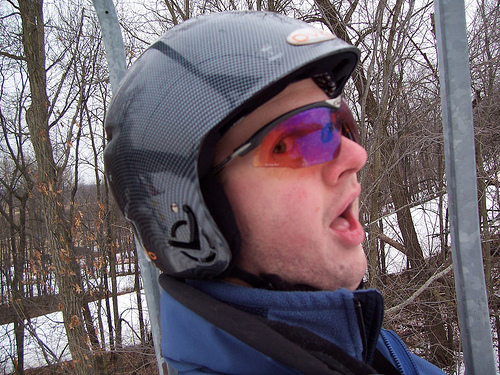helmet: (97, 17, 353, 174)
